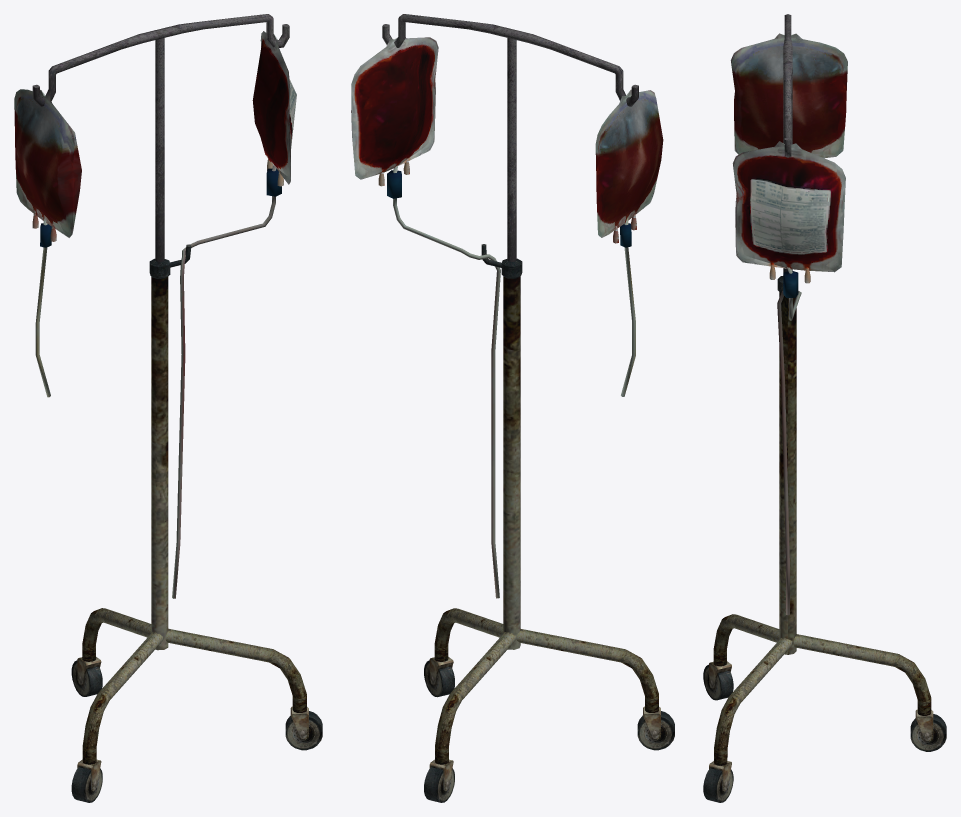
Rendered from infusion01_obj_uni17_ag.obj.
The picture shows the model from 3 angles, left to right: view 1: azimuth 30°, elevation 25°; view 2: azimuth 150°, elevation 25°; view 3: azimuth 270°, elevation 25°; orthographic projection. The views are drawn at different scales.
Visible parts, largest first — view 1: infusion01_obj_uni17_ag; view 2: infusion01_obj_uni17_ag; view 3: infusion01_obj_uni17_ag.
Part boxes in pixels (x1,y1,x2,y2): infusion01_obj_uni17_ag: (14, 14, 322, 802); infusion01_obj_uni17_ag: (351, 14, 674, 802); infusion01_obj_uni17_ag: (703, 14, 946, 802).
Size of the model in its own units: 88.57 by 223 by 70.69.
1 material, 1 textured.
